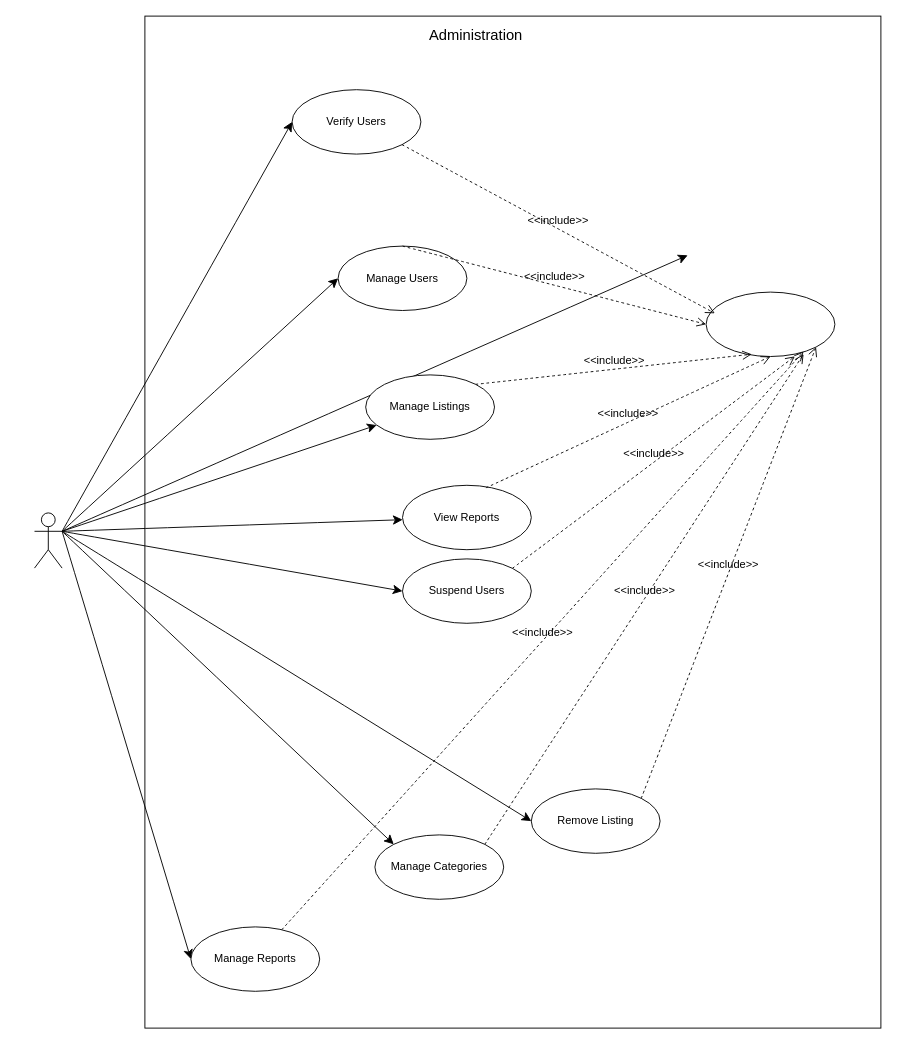
This 897x1044 diagram has some shape labels left out. The shapes that lost their labels are listed below. From the top down, each one's centre as x and y in pixels, then its label:
(770,323): Login
(48,540): Administrator
